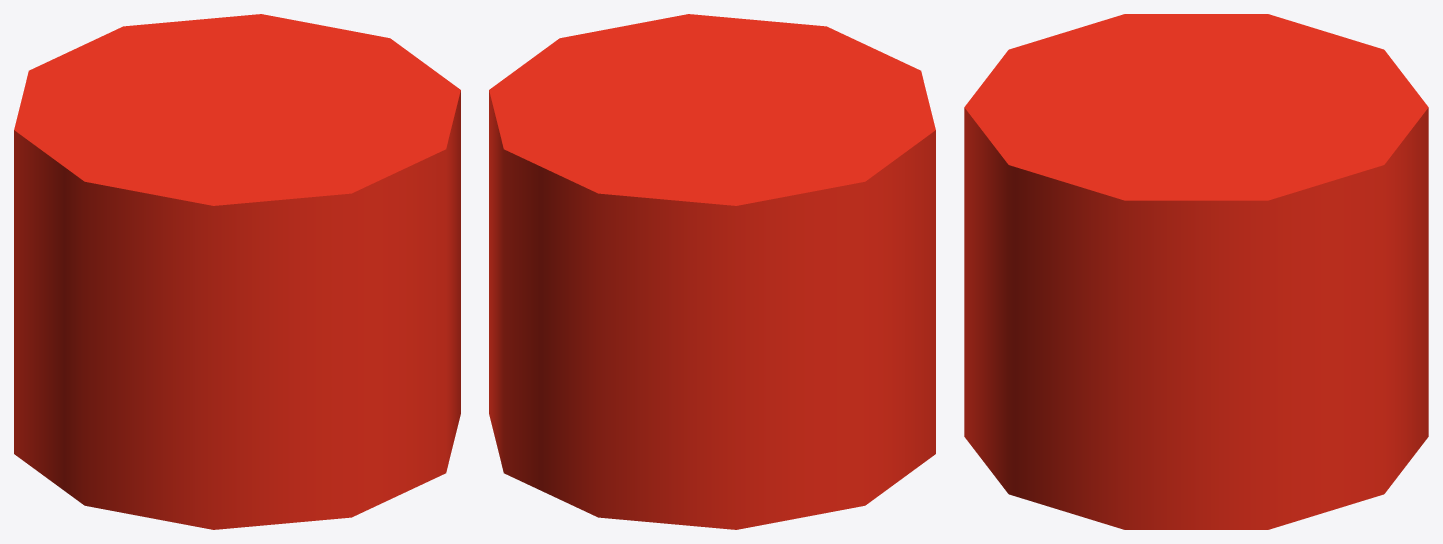
Rendered from decor_olive_planter_collision.glb.
3 views of the same model, side by side, from view 1: azimuth 30°, elevation 25°; view 2: azimuth 150°, elevation 25°; view 3: azimuth 270°, elevation 25° (orthographic).
Parts seen in each view (by area): view 1: decor_olive_planter-col; view 2: decor_olive_planter-col; view 3: decor_olive_planter-col.
Boxes of the visible parts, x1,y1,x2,y2 form: decor_olive_planter-col: (14, 14, 460, 529); decor_olive_planter-col: (489, 14, 935, 529); decor_olive_planter-col: (964, 14, 1428, 529).
Bounding box in the file's own units: 0.875 × 0.72 × 0.92.
